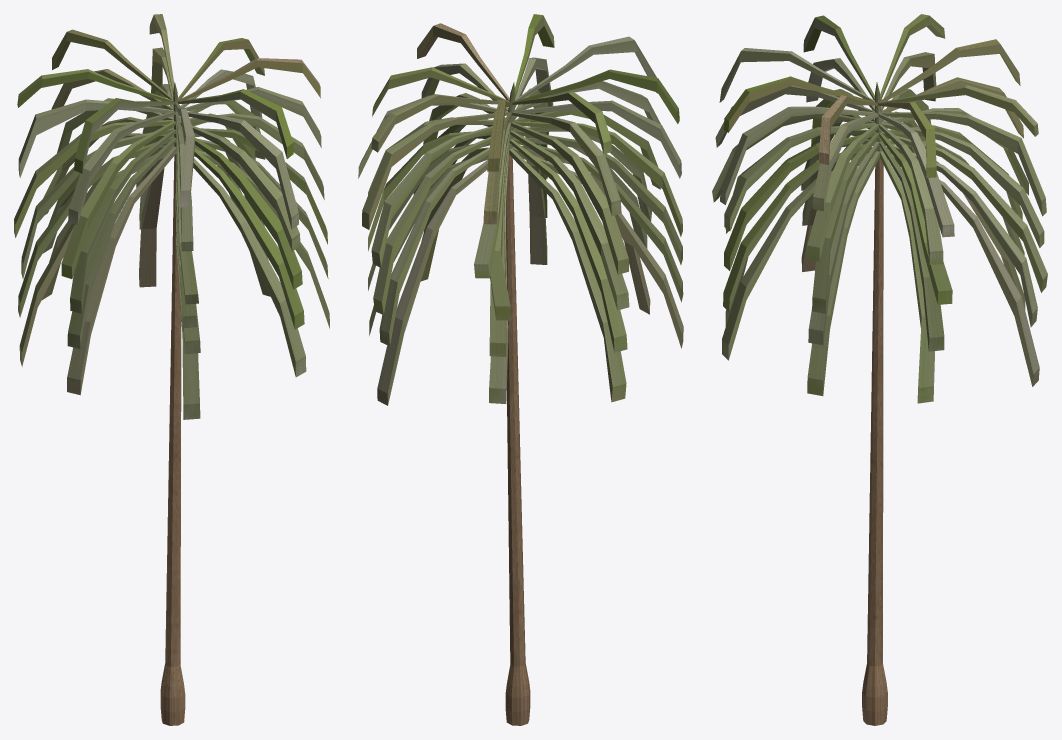
File: palma2.glb
3 renders of one model, left to right at view 1: azimuth 30°, elevation 25°; view 2: azimuth 150°, elevation 25°; view 3: azimuth 270°, elevation 25°, orthographic.
Visible parts, largest first — view 1: Cylinder; view 2: Cylinder; view 3: Cylinder.
Part boxes in pixels (x1,y1,x2,y2): Cylinder: [14, 14, 329, 725]; Cylinder: [358, 14, 683, 725]; Cylinder: [712, 14, 1047, 725].
Size of the model in its own units: 3.32 by 7.83 by 3.61.
Materials: 1 (1 with a texture image).
